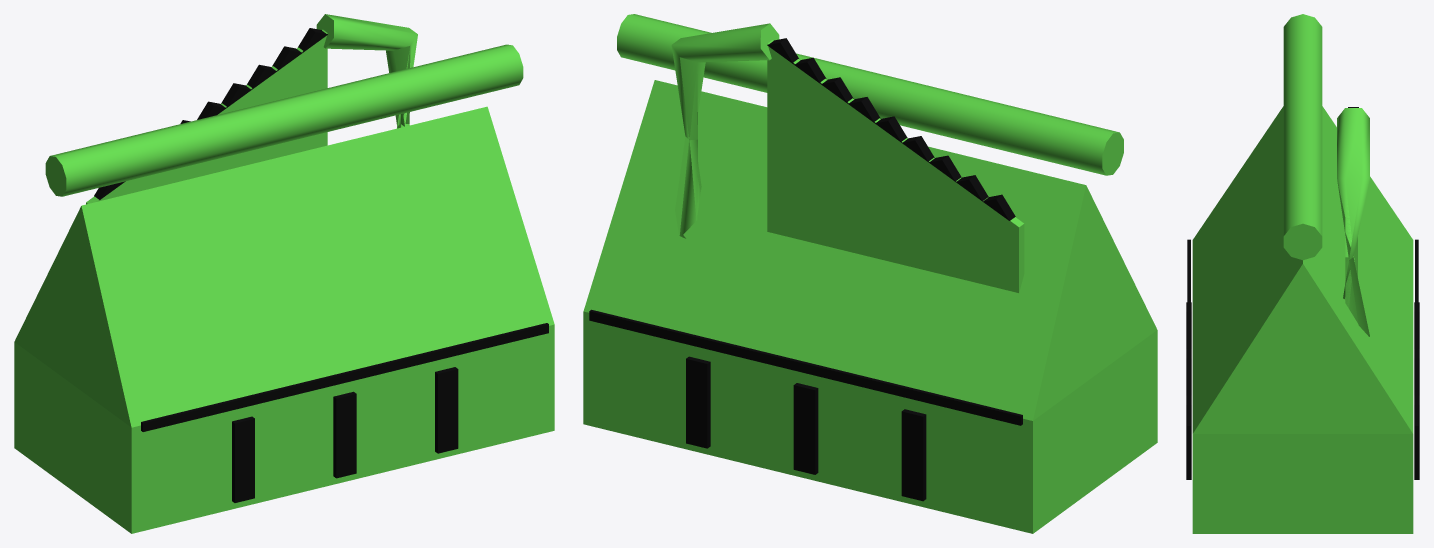
The model's file is powerup_tote.gltf.
3 renders of one model, left to right at view 1: azimuth 30°, elevation 25°; view 2: azimuth 150°, elevation 25°; view 3: azimuth 270°, elevation 25°, orthographic. The views are drawn at different scales.
Visible parts, largest first — view 1: powerup_tote; view 2: powerup_tote; view 3: powerup_tote.
Part boxes in pixels (box(x1,y1,x2,y2)): powerup_tote: box(14, 14, 554, 533); powerup_tote: box(583, 14, 1157, 533); powerup_tote: box(1186, 14, 1419, 533).
Bounding box in the file's own units: 0.54 × 0.4348 × 0.254.
